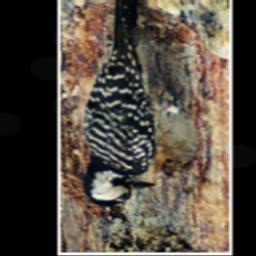Woodpecker: (76, 0, 193, 213)
